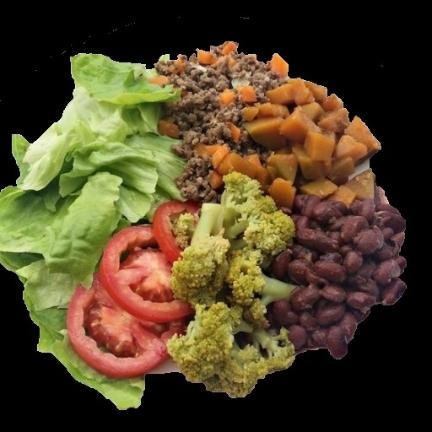beans: (270, 195, 405, 358)
broccoli: (167, 172, 296, 396)
meat: (155, 43, 284, 201)
salad: (0, 54, 184, 408)
tomato: (67, 201, 197, 378)
